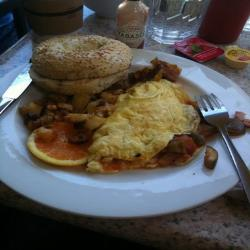omelette: (90, 80, 197, 164)
